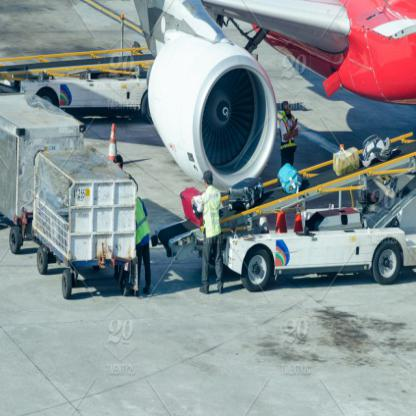baggagetruck: (144, 129, 415, 304)
